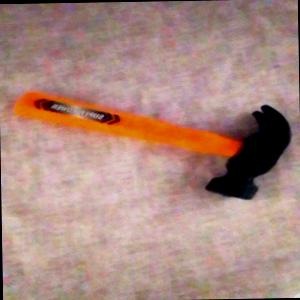martelo: (10, 84, 294, 204)
